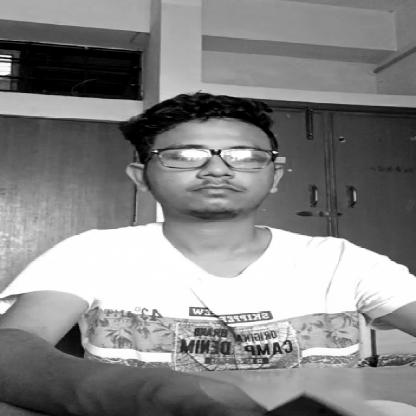Normal: (144, 126, 292, 224)
